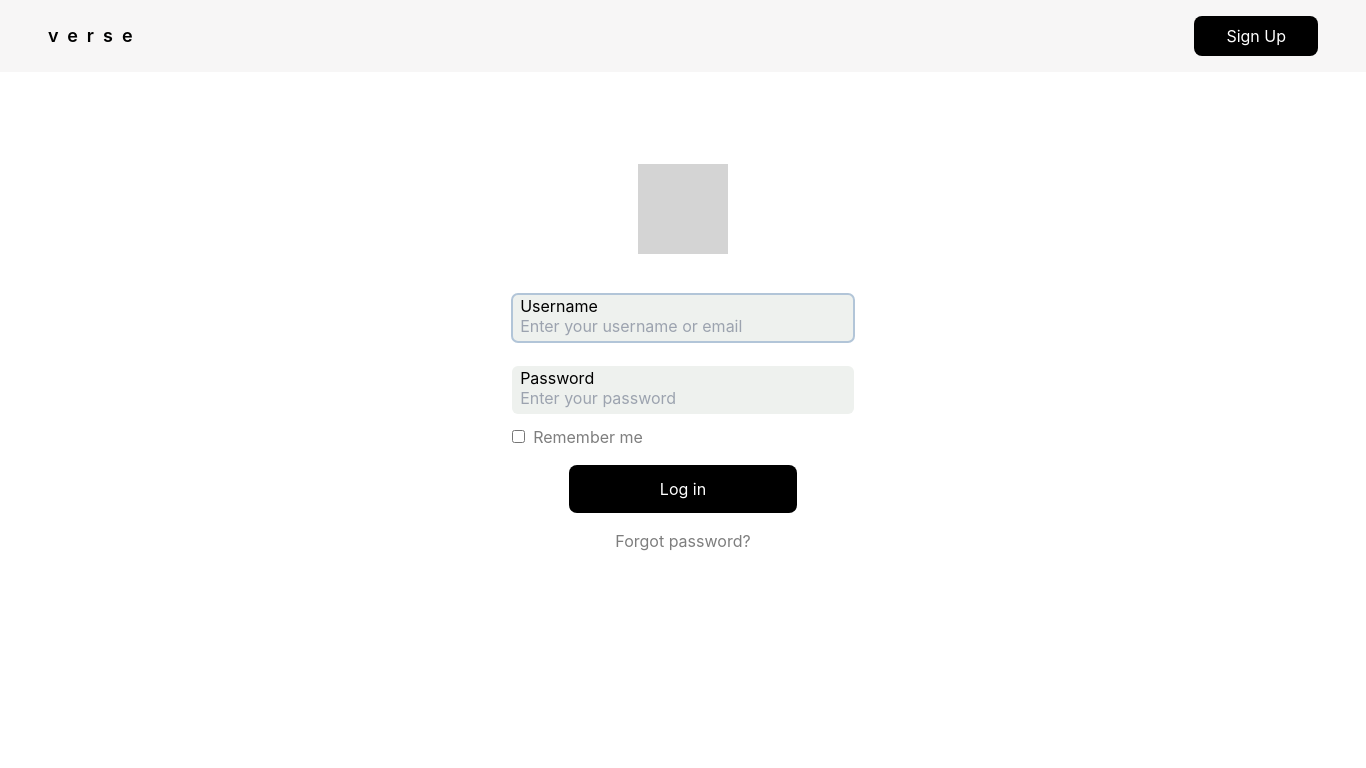
it: Login › displays the error message when only username is empty
The image size is (1366, 768).
Type "password test" into the password field with test id "password" at (683, 390), box [512,366,854,414]
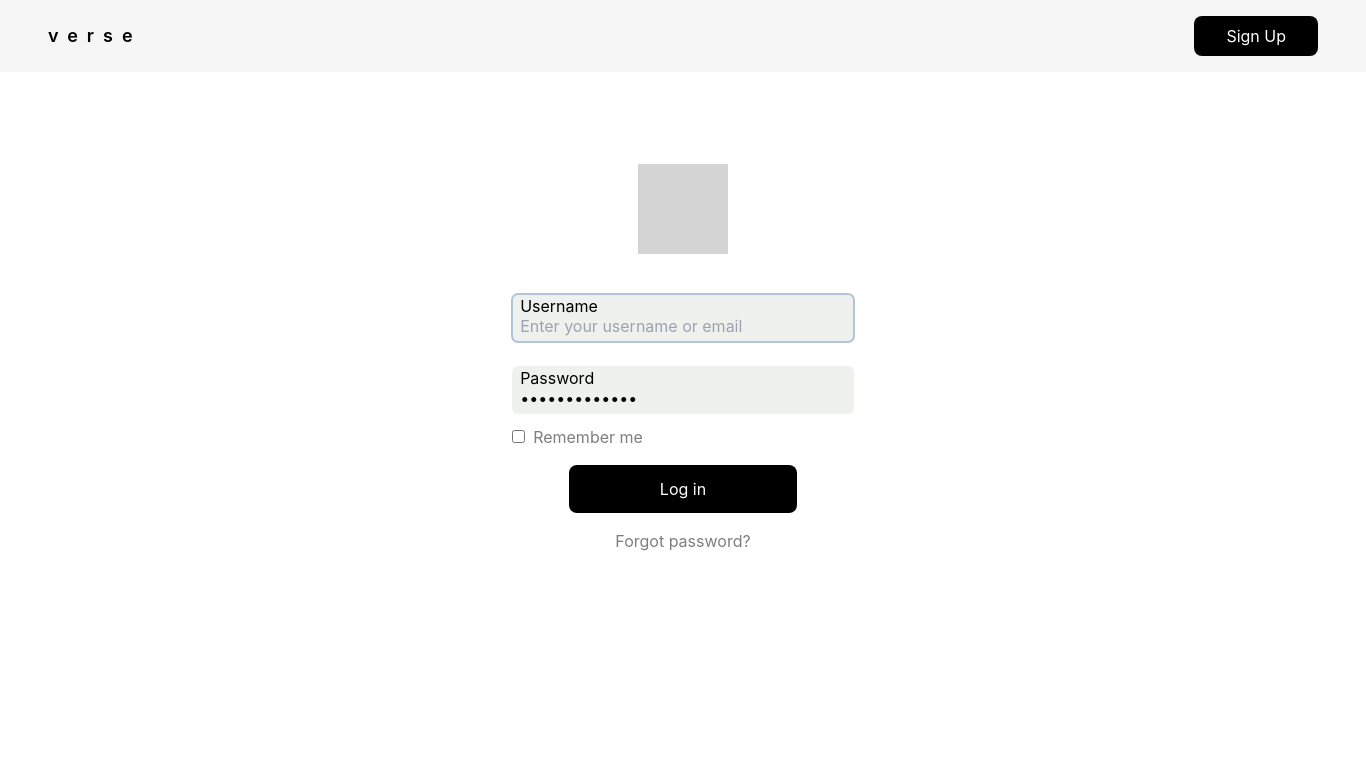
Click the button with test id "login-button" at (683, 489), box [569,465,797,513]
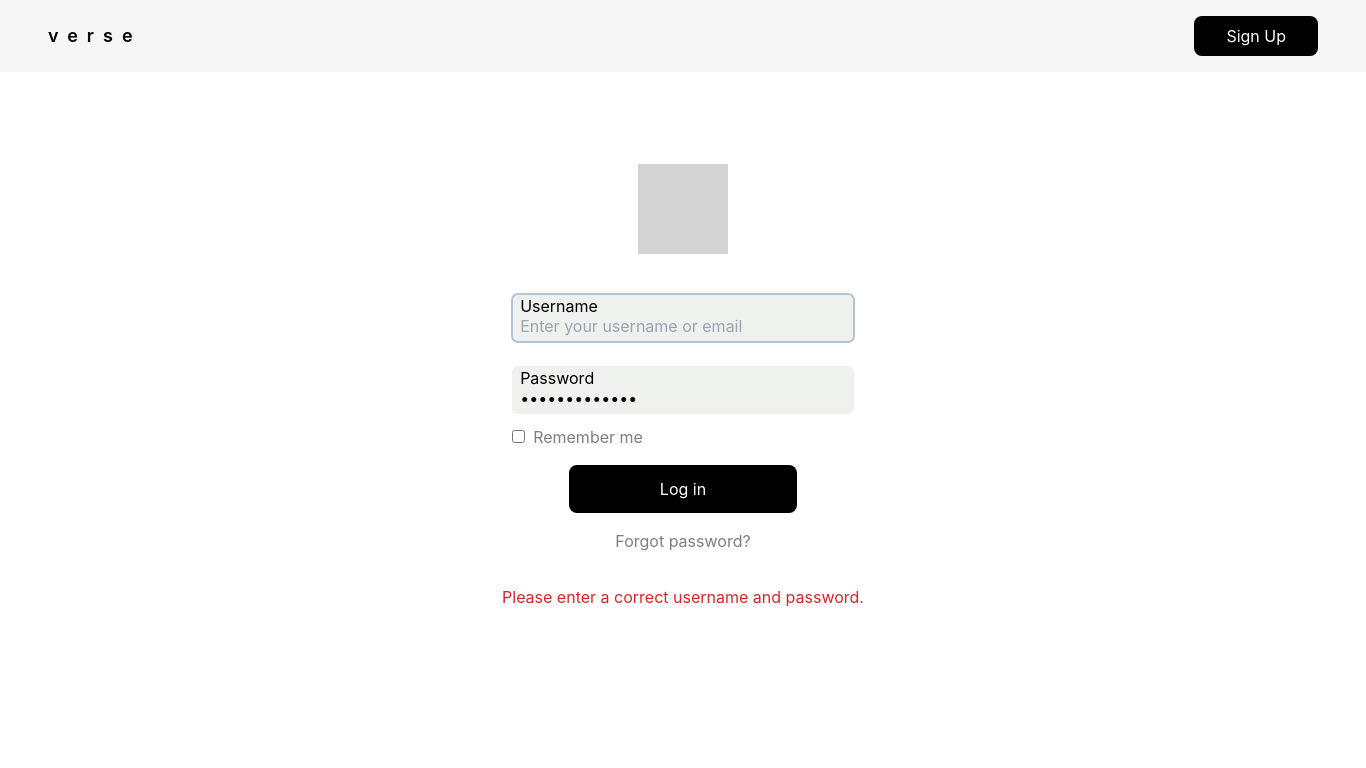
Expected: the text "Please enter a correct username and password." is shown, [502,585,864,609]
